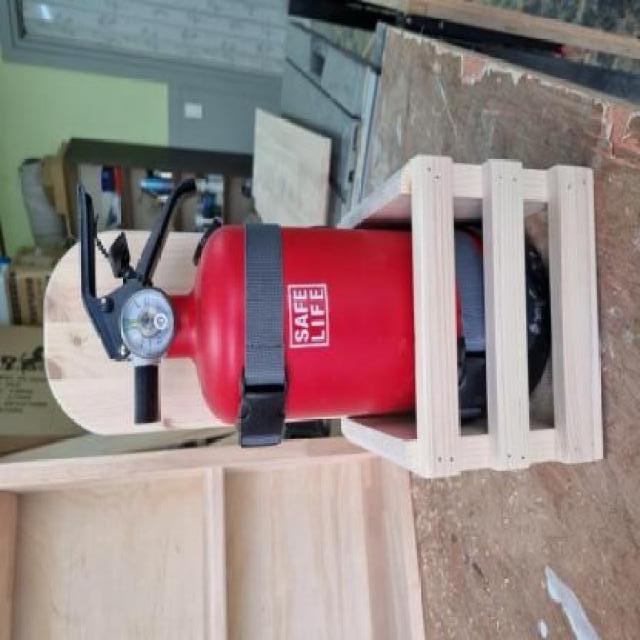fire extinguisher: (75, 178, 552, 447)
